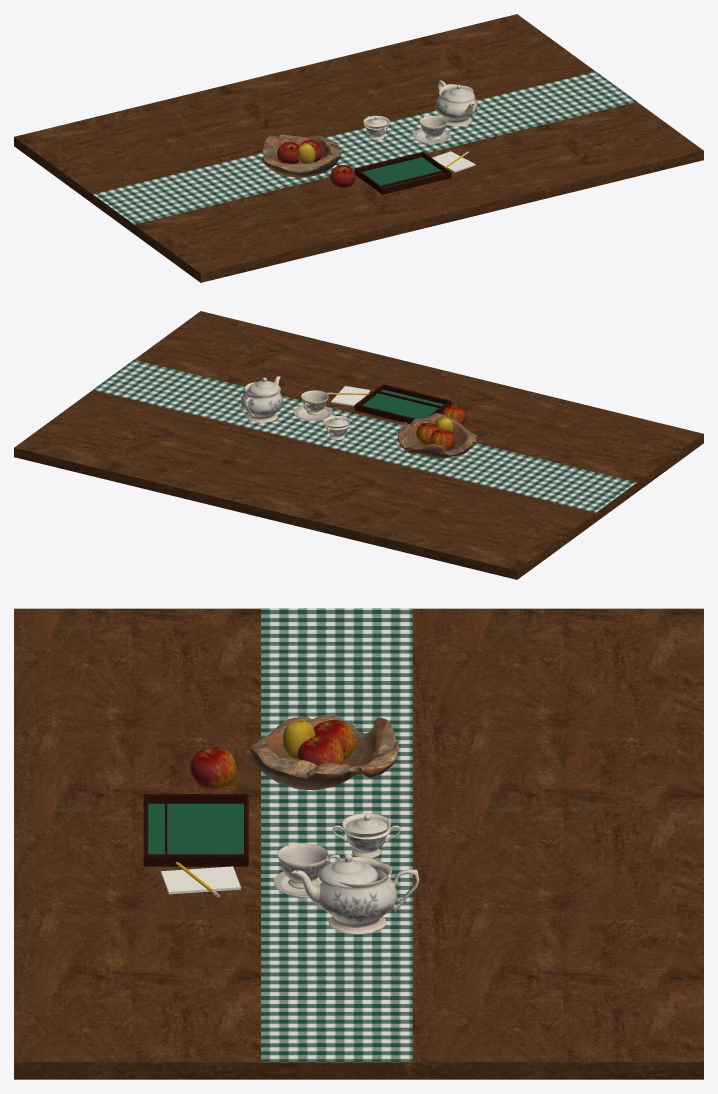
The model's file is kitchen.glb.
3 views of the same model, one above another, from view 1: azimuth 30°, elevation 25°; view 2: azimuth 150°, elevation 25°; view 3: azimuth 270°, elevation 25° (orthographic). The views are drawn at different scales.
Parts seen in each view (by area): view 1: Table, Runner, wooden_bowl_01, TrayFrame, TrayFelt, tea_set_01_teapot_01, tea_set_01_cup_small_01, ScorePad, apple_01.002; view 2: Table, Runner, wooden_bowl_01, TrayFrame, TrayFelt, tea_set_01_teapot_01, tea_set_01_cup_small_01, ScorePad; view 3: Table, Runner, wooden_bowl_01, TrayFelt, tea_set_01_teapot_01, TrayFrame, ScorePad, tea_set_01_cup_small_01, apple_01.002, tea_set_01_teapot_01_lid, tea_set_01_sugar_cup_01, apple_01.001 (+2 smaller).
Boxes of the visible parts, box(x1,y1,x2,y2) form: Table: box(14, 14, 703, 282); Runner: box(93, 71, 636, 224); wooden_bowl_01: box(261, 134, 342, 177); TrayFrame: box(354, 151, 451, 194); TrayFelt: box(362, 157, 443, 187); tea_set_01_teapot_01: box(435, 80, 477, 126); tea_set_01_cup_small_01: box(419, 115, 447, 140); ScorePad: box(432, 151, 475, 172); apple_01.002: box(330, 165, 355, 187); Table: box(14, 311, 703, 579); Runner: box(93, 359, 636, 512); wooden_bowl_01: box(397, 413, 476, 458); TrayFrame: box(354, 384, 451, 423); TrayFelt: box(362, 389, 443, 418); tea_set_01_teapot_01: box(241, 376, 283, 422); tea_set_01_cup_small_01: box(301, 390, 328, 415); ScorePad: box(331, 386, 370, 406); Table: box(14, 608, 703, 1079); Runner: box(261, 608, 412, 1062); wooden_bowl_01: box(250, 715, 398, 790); TrayFelt: box(148, 803, 243, 854); tea_set_01_teapot_01: box(291, 857, 419, 934); TrayFrame: box(143, 794, 248, 866); ScorePad: box(161, 866, 240, 894); tea_set_01_cup_small_01: box(277, 843, 340, 888); apple_01.002: box(190, 746, 236, 789); tea_set_01_teapot_01_lid: box(318, 854, 378, 888); tea_set_01_sugar_cup_01: box(332, 813, 400, 858); apple_01.001: box(297, 735, 343, 765).
Bounding box in the file's own units: 140 × 12.4 × 90.
Materials: 14 (7 with a texture image).
